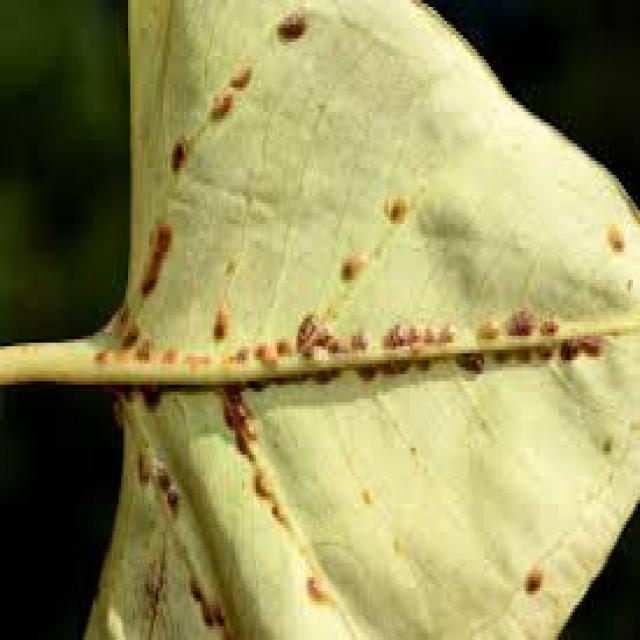scale_insect: (289, 300, 335, 350), (270, 0, 312, 49), (333, 238, 370, 287), (377, 178, 414, 224), (198, 80, 237, 122), (202, 287, 233, 339), (163, 122, 193, 175), (514, 553, 547, 598), (242, 462, 277, 504), (503, 294, 535, 336), (300, 563, 331, 605), (598, 207, 624, 256), (223, 52, 254, 91), (226, 388, 256, 427), (321, 325, 354, 360), (228, 420, 258, 458), (114, 315, 144, 353), (344, 314, 375, 350), (249, 328, 279, 364), (452, 343, 486, 374), (154, 332, 182, 367), (472, 308, 503, 339), (86, 336, 116, 367), (182, 566, 207, 602), (554, 332, 582, 364), (349, 353, 377, 385), (263, 493, 291, 525), (270, 322, 296, 356), (486, 336, 512, 370), (216, 392, 242, 426), (193, 591, 217, 626), (307, 360, 333, 392), (382, 311, 407, 343), (531, 332, 556, 364), (160, 482, 182, 518), (533, 308, 561, 336), (400, 311, 424, 343), (435, 311, 459, 343), (389, 350, 412, 381), (232, 332, 254, 364), (575, 328, 600, 356), (508, 339, 536, 364), (416, 311, 440, 339), (372, 353, 396, 381), (412, 346, 433, 374), (242, 371, 270, 392)
